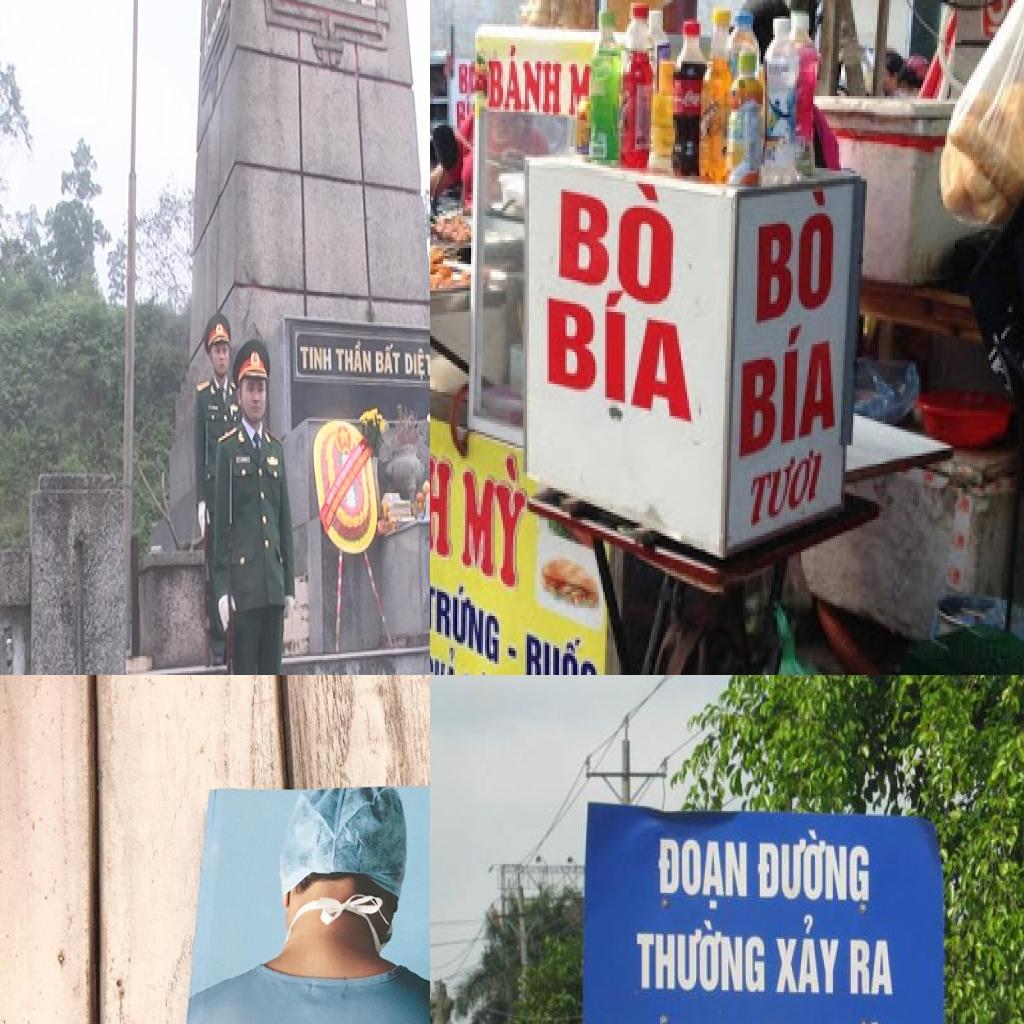text: (535, 269, 695, 424), (551, 170, 687, 314), (733, 317, 839, 464), (457, 429, 535, 595), (749, 186, 837, 330), (633, 917, 768, 995), (756, 828, 872, 908), (430, 568, 505, 672), (745, 443, 827, 533), (656, 838, 751, 912), (774, 912, 845, 997), (487, 40, 563, 115), (430, 389, 459, 559), (523, 615, 603, 675), (850, 939, 896, 1000), (335, 340, 373, 376), (567, 56, 595, 101), (451, 94, 479, 134), (430, 634, 457, 675), (455, 56, 479, 99), (299, 345, 333, 374), (375, 342, 401, 378), (404, 345, 430, 381), (457, 661, 493, 675)
